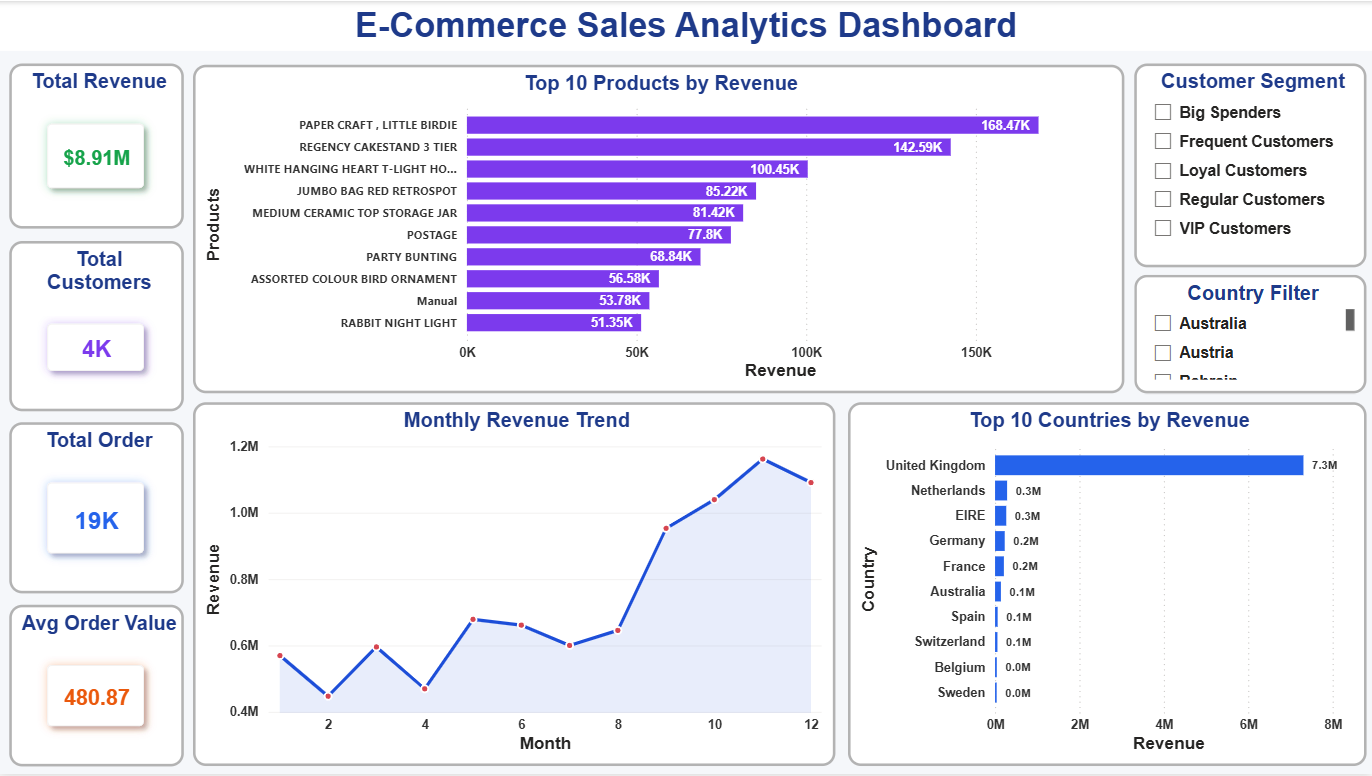

This screenshot's page, from the dashboard's own definition file:
{"tool":"powerbi","page":{"name":"Executive Overview","canvas":[1280,720],"ordinal":0},"visuals":[{"type":"textbox","box":[0,0,1280.2,46.5],"z":0},{"type":"cardVisual","title":"Total Revenue","fields":{"Data":["cleaned ecommerce data.Total Revenue"]},"box":[10.5,58.1,162.8,153.5],"z":1000},{"type":"cardVisual","title":"Total Customers","fields":{"Data":["cleaned ecommerce data.Total Customers"]},"box":[10.5,223.3,162.8,158.1],"z":2000},{"type":"cardVisual","title":"Avg Order Value","fields":{"Data":["cleaned ecommerce data.Avg Order Value"]},"box":[10.5,561.6,162.8,150],"z":3000},{"type":"cardVisual","title":"Total Order","fields":{"Data":["cleaned ecommerce data.Total Orders"]},"box":[10.5,391.9,162.8,159.3],"z":4000},{"type":"lineChart","title":"Monthly Revenue Trend","fields":{"Category":["cleaned ecommerce data.InvoiceMonth"],"Y":["cleaned ecommerce data.Total Revenue"]},"box":[181.4,373.3,597.7,338.4],"z":5000},{"type":"clusteredBarChart","title":"Top 10 Countries by Revenue","fields":{"Category":["cleaned ecommerce data.Country"],"Y":["cleaned ecommerce data.Total Revenue"]},"box":[790.4,372.9,482,338.4],"z":6000},{"type":"clusteredBarChart","title":"Top 10 Products by Revenue","fields":{"Category":["cleaned ecommerce data.Description"],"Y":["cleaned ecommerce data.Total Revenue"]},"box":[181.4,59.3,866.3,305.8],"z":7000},{"type":"slicer","title":"Country Filter","fields":{"Values":["cleaned ecommerce data.Country"]},"box":[1057,254.7,216.3,110.5],"z":8000},{"type":"slicer","title":"Customer Segment","fields":{"Values":["rfm customer segments.Segment"]},"box":[1057,58.1,216.3,189.5],"z":9000}]}

Visuals, with their boxes in screenshot pixels (x1, y1, x2, y2), scaled from the page's 1280x720 canvas onto the 1372x776 screenshot:
textbox: bbox=(0, 0, 1371, 50)
"Total Revenue" cardVisual: bbox=(11, 63, 186, 228)
"Total Customers" cardVisual: bbox=(11, 241, 186, 411)
"Avg Order Value" cardVisual: bbox=(11, 605, 186, 767)
"Total Order" cardVisual: bbox=(11, 422, 186, 594)
"Monthly Revenue Trend" lineChart: bbox=(194, 402, 835, 767)
"Top 10 Countries by Revenue" clusteredBarChart: bbox=(847, 402, 1364, 767)
"Top 10 Products by Revenue" clusteredBarChart: bbox=(194, 64, 1123, 393)
"Country Filter" slicer: bbox=(1133, 275, 1365, 394)
"Customer Segment" slicer: bbox=(1133, 63, 1365, 267)
